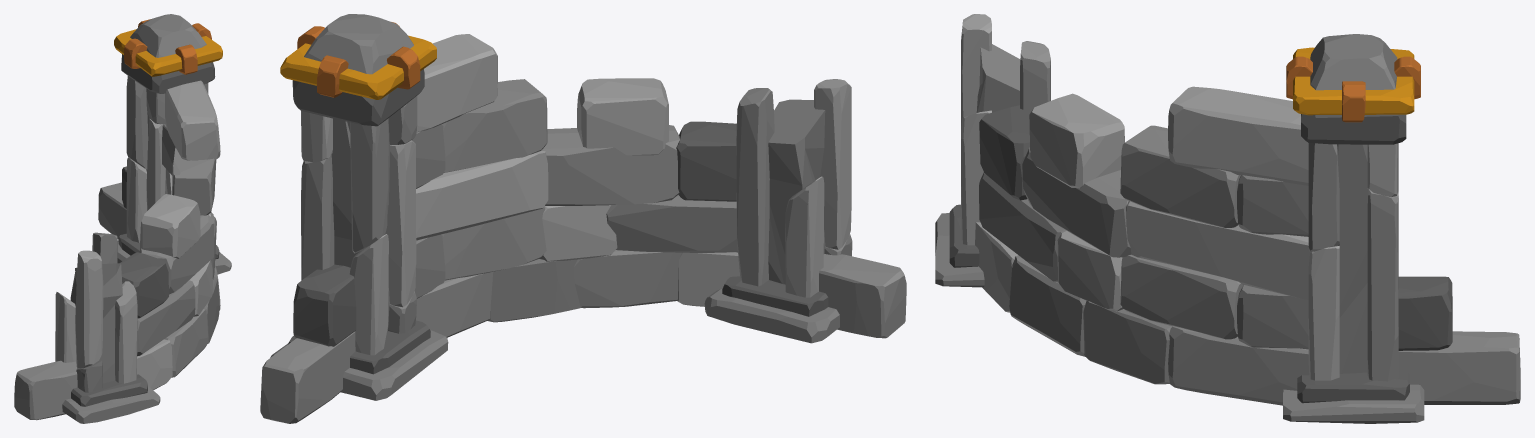
Rendered from Wall03.fbx.
The picture shows the model from 3 angles, left to right: view 1: azimuth 30°, elevation 25°; view 2: azimuth 150°, elevation 25°; view 3: azimuth 270°, elevation 25°; orthographic projection. The views are drawn at different scales.
Visible parts, largest first — view 1: LOD0; view 2: LOD0; view 3: LOD0.
Boxes of the visible parts, box(x1,y1,x2,y2) form: LOD0: box(14, 14, 231, 423); LOD0: box(260, 14, 906, 423); LOD0: box(935, 14, 1520, 423).
Size of what is drawn, in the model's own units: 569 by 647 by 429.
